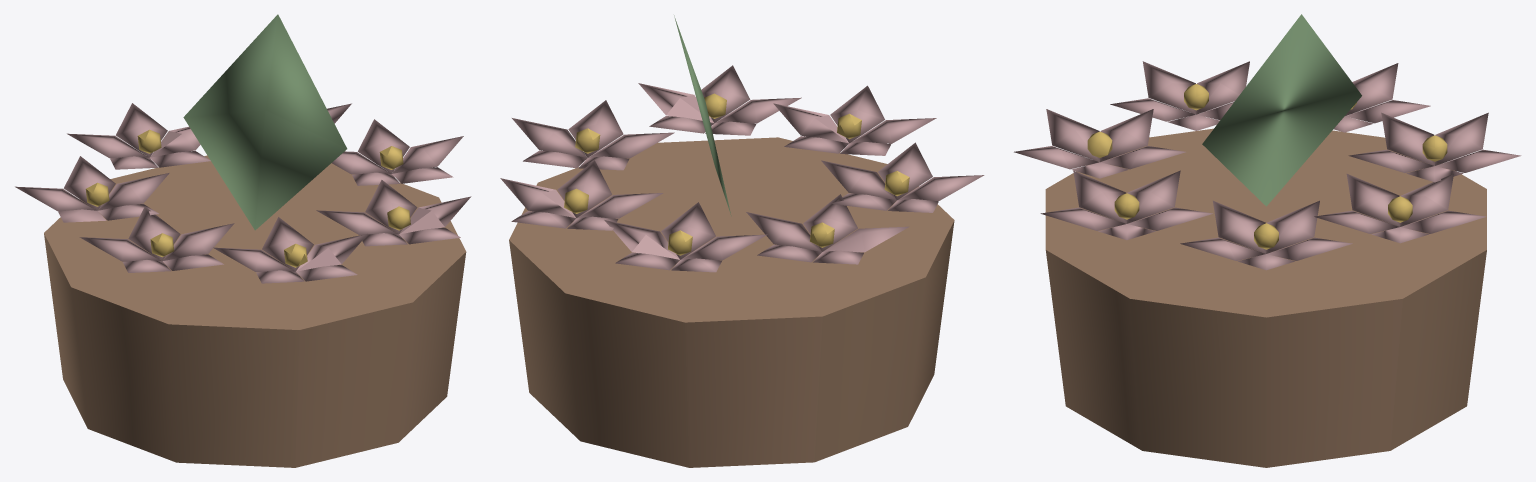
The model's file is map-exclusive-v3__village_09.glb.
3 renders of one model, left to right at view 1: azimuth 30°, elevation 25°; view 2: azimuth 150°, elevation 25°; view 3: azimuth 270°, elevation 25°, orthographic. The views are drawn at different scales.
Parts seen in each view (by area): view 1: village_09; view 2: village_09; view 3: village_09.
Part boxes in pixels (x1,y1,x2,y2): village_09: [15, 14, 471, 467]; village_09: [500, 15, 984, 467]; village_09: [1014, 14, 1521, 467].
Bounding box in the file's own units: 1.41 × 1.21 × 1.45.
